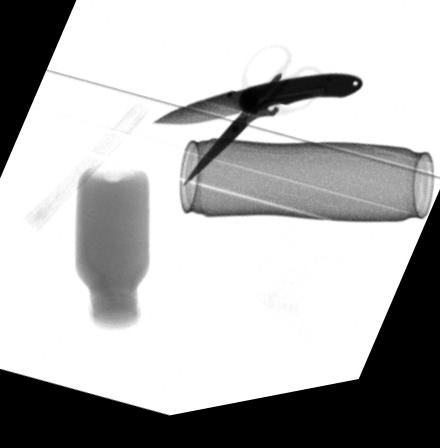Knife: (150, 85, 364, 131)
Scissors: (185, 50, 329, 192)
